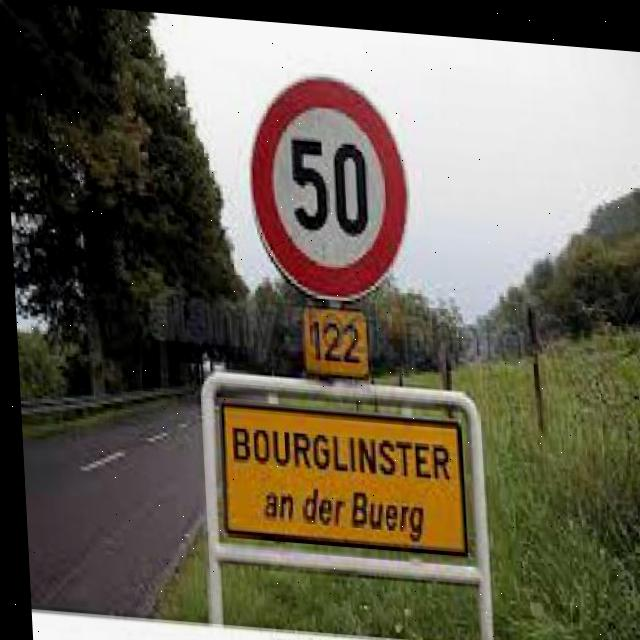Speed limit 50: (240, 63, 413, 302)
